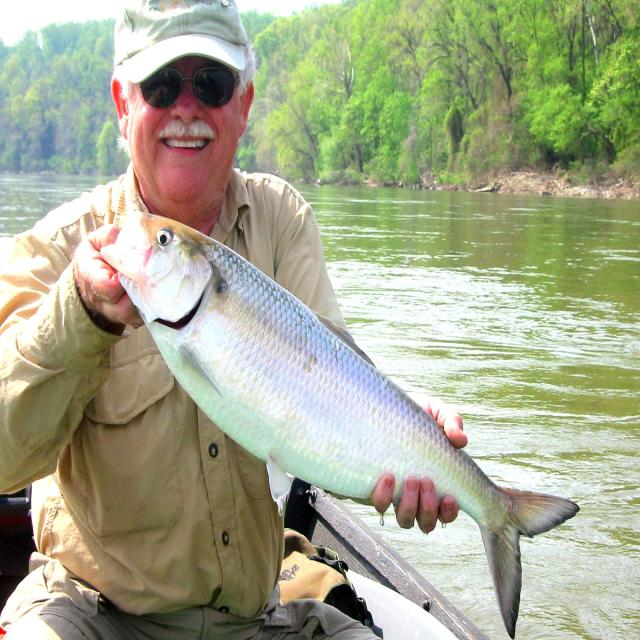Shad - American: (101, 211, 578, 637)
